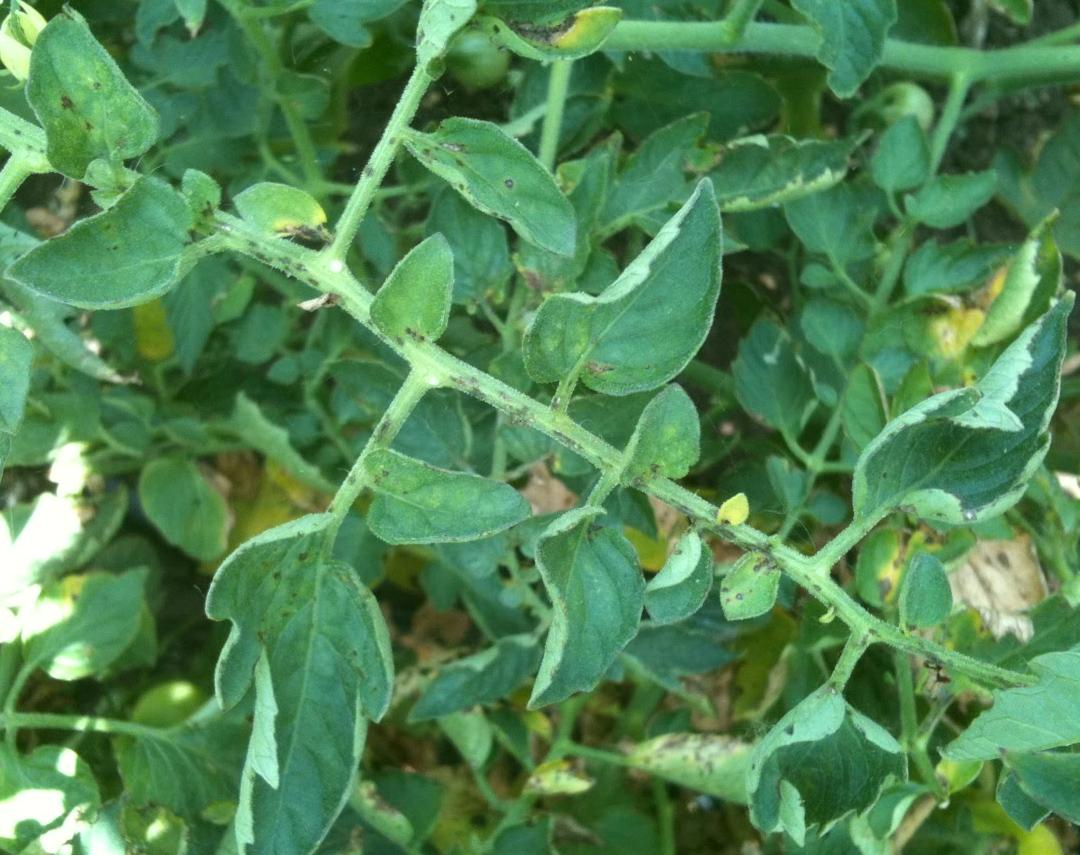Tomato leaf bacterial spot: (803, 274, 1080, 584), (173, 517, 403, 855), (514, 190, 741, 400), (0, 180, 260, 323), (1, 0, 169, 200), (332, 435, 563, 576), (394, 96, 588, 262), (709, 541, 809, 640)
